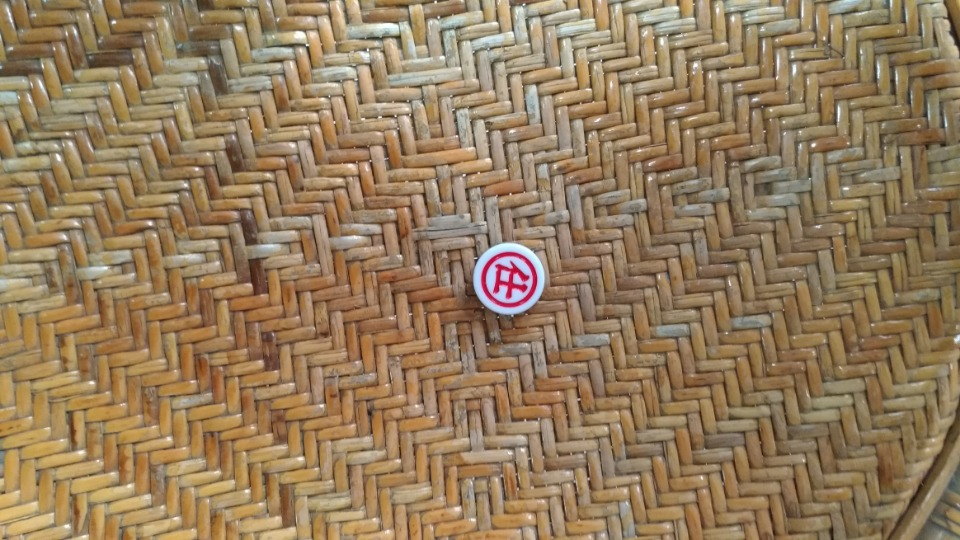r-advisor: (467, 233, 556, 328)
